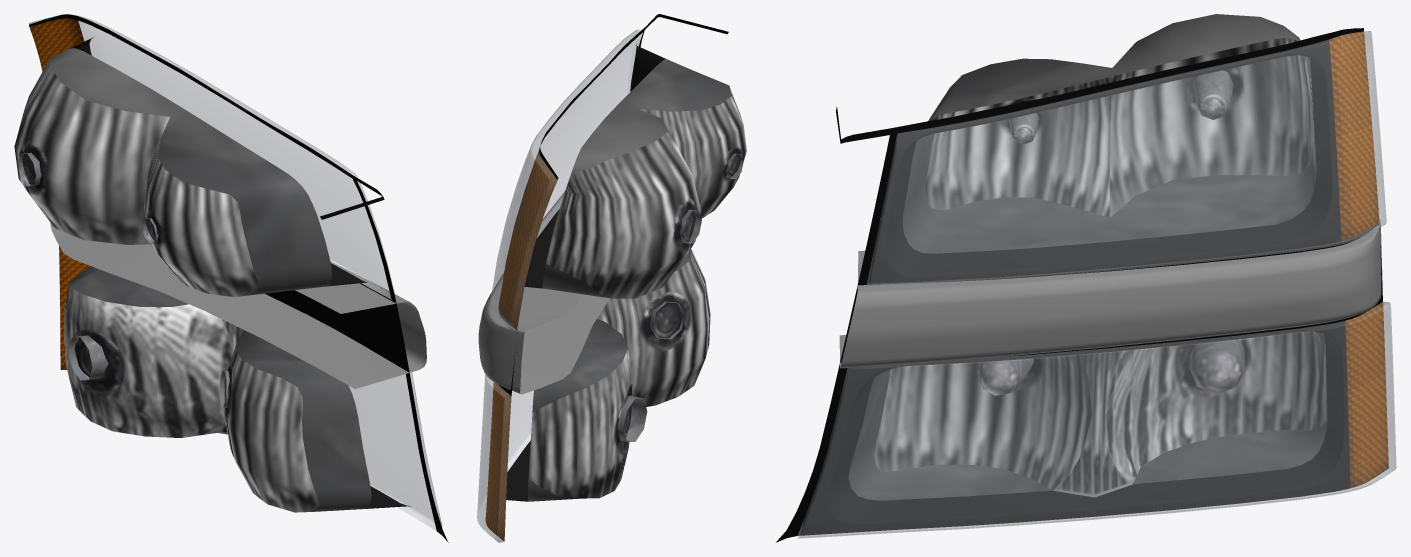
3 renders of one model, left to right at view 1: azimuth 30°, elevation 25°; view 2: azimuth 150°, elevation 25°; view 3: azimuth 270°, elevation 25°, orthographic. The views are drawn at different scales.
Parts seen in each view (by area): view 1: U803_1A_061B_L_U803_1A_061B_L_3_N, U803_1A_061B_L_U803_1A_061B_L_4_DaS, U803_1A_061B_L_1_DTaSI_U803_1A_061B_L, U803_1A_061B_L_U803_1A_061B_L_2_DTaSI, U803_1A_061B_L_U803_1A_061B_L_6_D, U803_1A_061B_L_U803_1A_061B_L_5_N; view 2: U803_1A_061B_L_U803_1A_061B_L_3_N, U803_1A_061B_L_1_DTaSI_U803_1A_061B_L, U803_1A_061B_L_U803_1A_061B_L_4_DaS, U803_1A_061B_L_U803_1A_061B_L_2_DTaSI, U803_1A_061B_L_U803_1A_061B_L_5_N, U803_1A_061B_L_U803_1A_061B_L_6_D; view 3: U803_1A_061B_L_U803_1A_061B_L_3_N, U803_1A_061B_L_U803_1A_061B_L_2_DTaSI, U803_1A_061B_L_1_DTaSI_U803_1A_061B_L, U803_1A_061B_L_U803_1A_061B_L_5_N, U803_1A_061B_L_U803_1A_061B_L_4_DaS, U803_1A_061B_L_U803_1A_061B_L_6_D.
Part boxes in pixels (box(x1,y1,x2,y2)): U803_1A_061B_L_U803_1A_061B_L_3_N: box(14, 18, 371, 512); U803_1A_061B_L_U803_1A_061B_L_4_DaS: box(50, 222, 426, 388); U803_1A_061B_L_1_DTaSI_U803_1A_061B_L: box(29, 14, 395, 299); U803_1A_061B_L_U803_1A_061B_L_2_DTaSI: box(59, 249, 442, 530); U803_1A_061B_L_U803_1A_061B_L_6_D: box(29, 14, 448, 542); U803_1A_061B_L_U803_1A_061B_L_5_N: box(70, 37, 411, 508); U803_1A_061B_L_U803_1A_061B_L_3_N: box(485, 59, 746, 541); U803_1A_061B_L_1_DTaSI_U803_1A_061B_L: box(490, 29, 642, 329); U803_1A_061B_L_U803_1A_061B_L_4_DaS: box(478, 192, 609, 394); U803_1A_061B_L_U803_1A_061B_L_2_DTaSI: box(477, 374, 533, 542); U803_1A_061B_L_U803_1A_061B_L_5_N: box(499, 44, 665, 501); U803_1A_061B_L_U803_1A_061B_L_6_D: box(498, 14, 728, 395); U803_1A_061B_L_U803_1A_061B_L_3_N: box(848, 14, 1388, 500); U803_1A_061B_L_U803_1A_061B_L_2_DTaSI: box(797, 301, 1396, 538); U803_1A_061B_L_1_DTaSI_U803_1A_061B_L: box(867, 31, 1386, 285); U803_1A_061B_L_U803_1A_061B_L_5_N: box(798, 39, 1350, 535); U803_1A_061B_L_U803_1A_061B_L_4_DaS: box(839, 219, 1382, 368); U803_1A_061B_L_U803_1A_061B_L_6_D: box(776, 28, 1382, 542).
Size of the model in its own units: 18.38 by 28.06 by 36.11.
